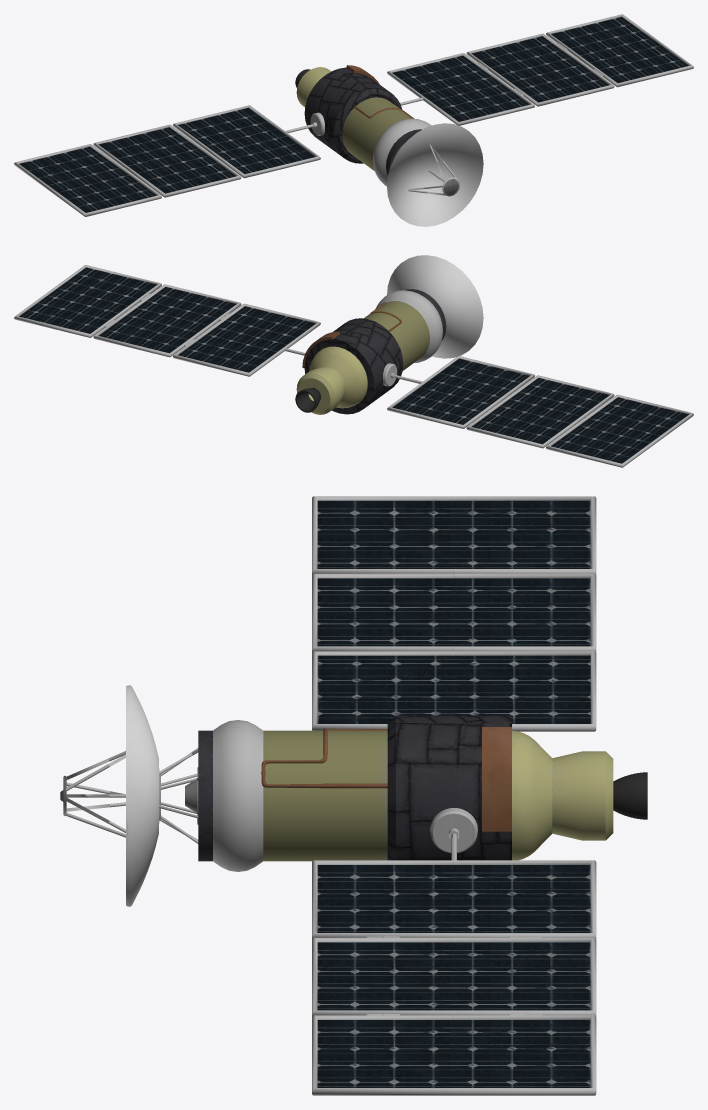
The model's file is satellite.glb.
3 renders of one model, top to bottom at view 1: azimuth 30°, elevation 25°; view 2: azimuth 150°, elevation 25°; view 3: azimuth 270°, elevation 25°, orthographic. The views are drawn at different scales.
Parts seen in each view (by area): view 1: satellite_solar_B, satellite_solar_A, satellite_chassis, satellite_antenna, satellite_circuits; view 2: satellite_solar_B, satellite_solar_A, satellite_chassis, satellite_antenna, satellite_thruster, satellite_circuits; view 3: satellite_solar_A, satellite_solar_B, satellite_chassis, satellite_antenna, satellite_circuits, satellite_thruster.
Boxes of the visible parts, bbox=[...] form: satellite_solar_B: bbox=[14, 105, 320, 216]; satellite_solar_A: bbox=[387, 14, 693, 125]; satellite_chassis: bbox=[286, 46, 598, 186]; satellite_antenna: bbox=[387, 123, 483, 226]; satellite_circuits: bbox=[354, 97, 414, 118]; satellite_solar_B: bbox=[387, 356, 693, 467]; satellite_solar_A: bbox=[14, 265, 320, 376]; satellite_chassis: bbox=[145, 289, 446, 414]; satellite_antenna: bbox=[387, 255, 483, 358]; satellite_thruster: bbox=[295, 388, 320, 412]; satellite_circuits: bbox=[364, 302, 401, 331]; satellite_solar_A: bbox=[312, 833, 596, 1095]; satellite_solar_B: bbox=[312, 496, 596, 731]; satellite_chassis: bbox=[159, 715, 613, 1014]; satellite_antenna: bbox=[60, 685, 159, 906]; satellite_circuits: bbox=[261, 728, 387, 788]; satellite_thruster: bbox=[613, 772, 647, 819].
Bounding box in the file's own units: 10.73 × 1.69 × 4.48.
1 material, 1 textured.
